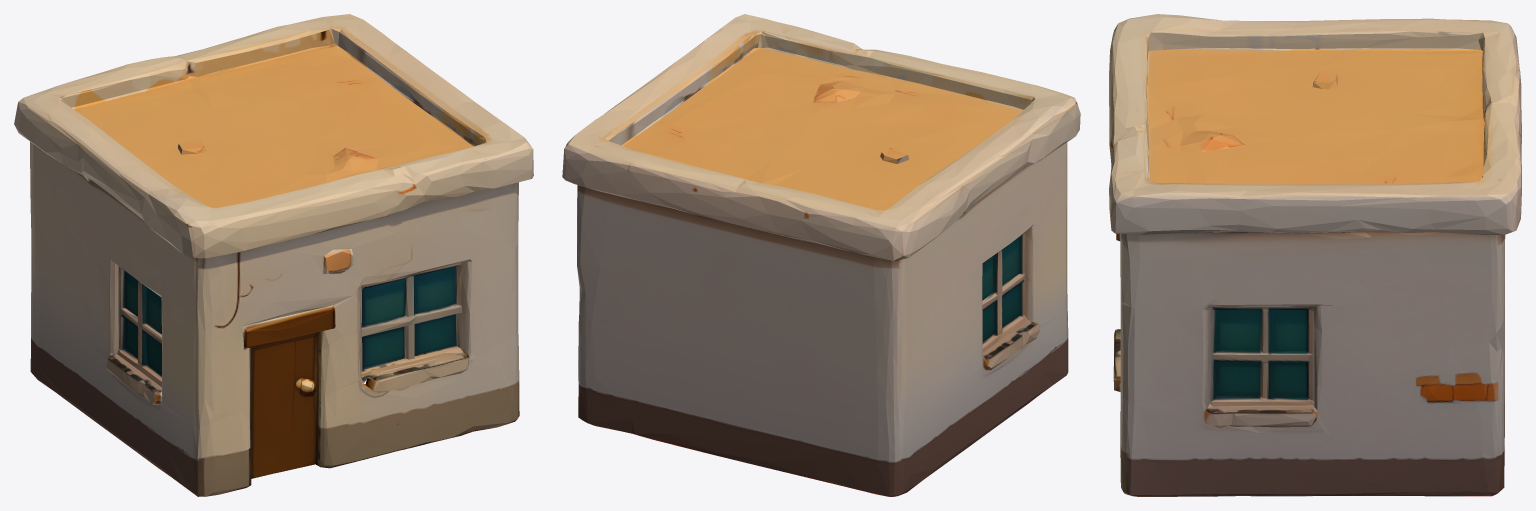
The picture shows the model from 3 angles, left to right: view 1: azimuth 30°, elevation 25°; view 2: azimuth 150°, elevation 25°; view 3: azimuth 270°, elevation 25°; orthographic projection. The views are drawn at different scales.
Visible parts, largest first — view 1: 2_1234_30_5.0_384_8000.obj; view 2: 2_1234_30_5.0_384_8000.obj; view 3: 2_1234_30_5.0_384_8000.obj.
Part boxes in pixels (box(x1,y1,x2,y2)): 2_1234_30_5.0_384_8000.obj: box(14, 14, 533, 496); 2_1234_30_5.0_384_8000.obj: box(562, 14, 1080, 496); 2_1234_30_5.0_384_8000.obj: box(1109, 14, 1521, 496).
Bounding box in the file's own units: 1.99 × 1.55 × 1.89.
Materials: 1 (1 with a texture image).
